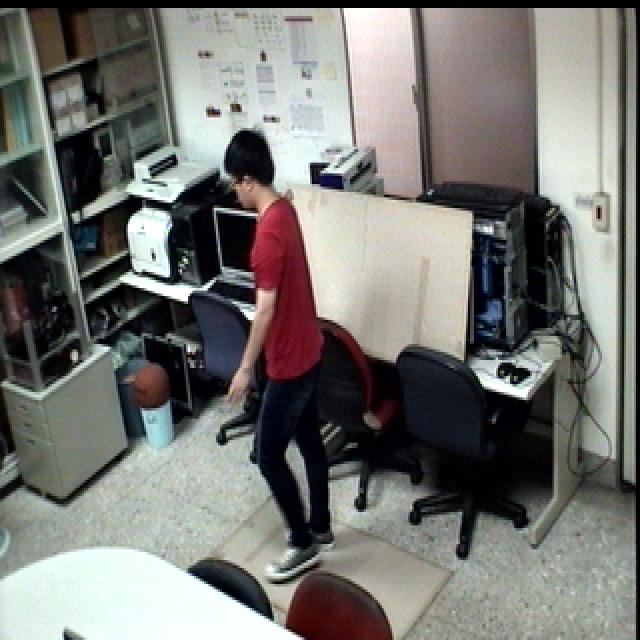stand: (207, 117, 346, 579)
